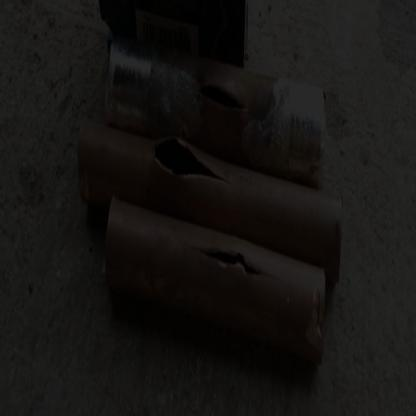burst: (146, 125, 236, 197), (196, 238, 262, 283), (195, 73, 252, 120)
